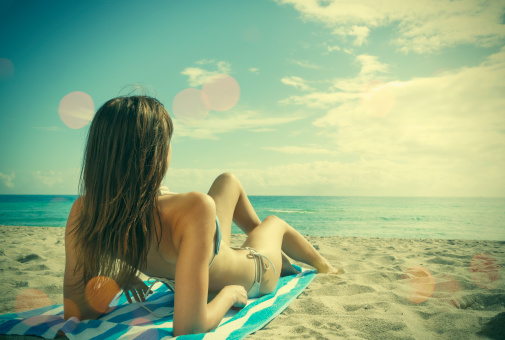deitado: (51, 65, 327, 330)
